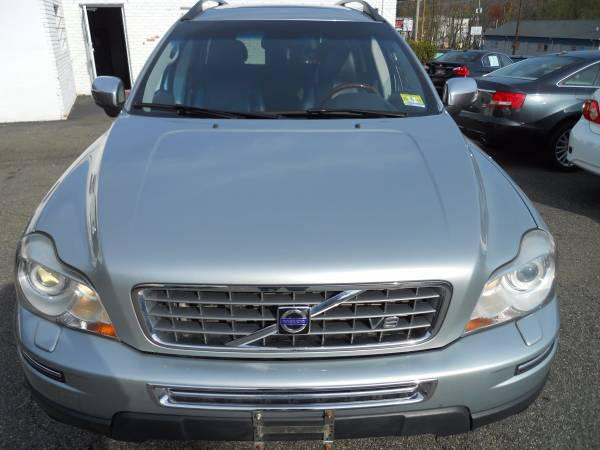volvo: (1, 3, 596, 449)
